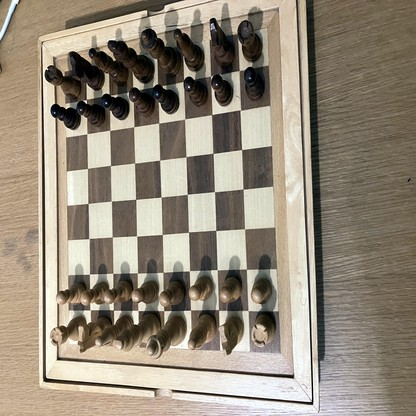bishop_black: (90, 48, 126, 83), (175, 29, 204, 69)
bishop_white: (97, 316, 132, 346), (188, 315, 215, 349)
king_black: (108, 40, 155, 82)
king_white: (113, 315, 161, 350)
knight_black: (69, 51, 104, 87), (209, 19, 235, 64)
knight_white: (79, 318, 109, 352), (218, 318, 242, 357)
pawn_black: (50, 104, 79, 129), (102, 94, 129, 120), (154, 85, 179, 113), (244, 66, 265, 99), (184, 78, 207, 106), (77, 102, 104, 125), (212, 75, 233, 104), (129, 88, 153, 113)
pawn_white: (104, 278, 133, 303), (82, 282, 109, 306), (57, 281, 86, 303), (160, 282, 183, 307), (189, 278, 214, 300), (132, 282, 159, 302), (221, 277, 242, 302), (251, 278, 271, 303)
queen_black: (141, 30, 179, 71)
queen_white: (148, 318, 187, 358)
rock_black: (44, 67, 80, 99), (239, 21, 263, 62)
rock_white: (51, 318, 87, 343), (252, 311, 275, 348)
